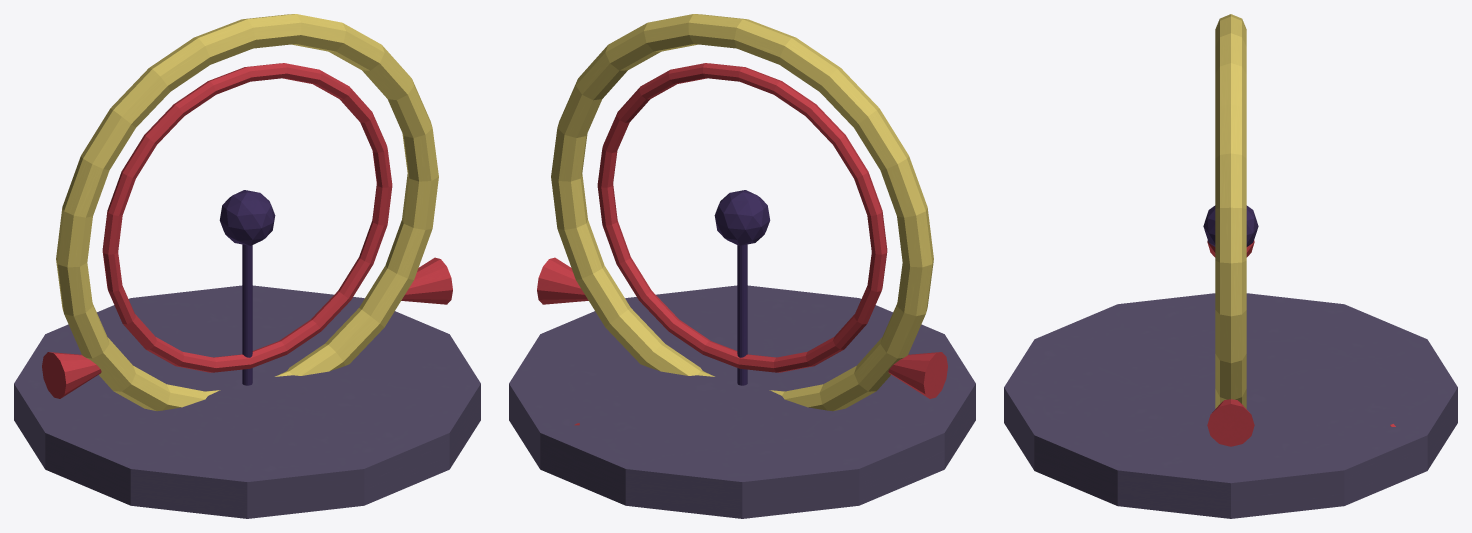
The model's file is gate-zenith.glb.
The picture shows the model from 3 angles, left to right: view 1: azimuth 30°, elevation 25°; view 2: azimuth 150°, elevation 25°; view 3: azimuth 270°, elevation 25°; orthographic projection. The views are drawn at different scales.
Visible parts, largest first — view 1: zenith-dais, zenith-gate-ring-outer, zenith-gate-ring-inner, zenith-echo-deep-core, zenith-sigil-spike-0, zenith-sigil-spike-1, zenith-core-pillar; view 2: zenith-dais, zenith-gate-ring-outer, zenith-gate-ring-inner, zenith-echo-deep-core, zenith-sigil-spike-0, zenith-sigil-spike-1, zenith-core-pillar; view 3: zenith-dais, zenith-gate-ring-outer, zenith-sigil-spike-1, zenith-echo-deep-core.
Part boxes in pixels (x1=…): zenith-dais: x1=14, y1=285, x2=480, y2=518; zenith-gate-ring-outer: x1=56, y1=14, x2=438, y2=411; zenith-gate-ring-inner: x1=102, y1=63, x2=392, y2=372; zenith-echo-deep-core: x1=219, y1=190, x2=275, y2=245; zenith-sigil-spike-0: x1=42, y1=352, x2=101, y2=398; zenith-sigil-spike-1: x1=401, y1=257, x2=452, y2=304; zenith-core-pillar: x1=242, y1=244, x2=252, y2=385; zenith-dais: x1=509, y1=285, x2=975, y2=518; zenith-gate-ring-outer: x1=551, y1=14, x2=933, y2=411; zenith-gate-ring-inner: x1=597, y1=63, x2=887, y2=372; zenith-echo-deep-core: x1=714, y1=190, x2=770, y2=245; zenith-sigil-spike-0: x1=888, y1=352, x2=947, y2=398; zenith-sigil-spike-1: x1=537, y1=257, x2=588, y2=304; zenith-core-pillar: x1=737, y1=244, x2=747, y2=385; zenith-dais: x1=1004, y1=293, x2=1457, y2=518; zenith-gate-ring-outer: x1=1215, y1=14, x2=1246, y2=408; zenith-sigil-spike-1: x1=1207, y1=399, x2=1254, y2=446; zenith-echo-deep-core: x1=1203, y1=205, x2=1258, y2=246.
Bounding box in the file's own units: 2.3 × 2.18 × 2.3.
4 materials, 4 textured.
